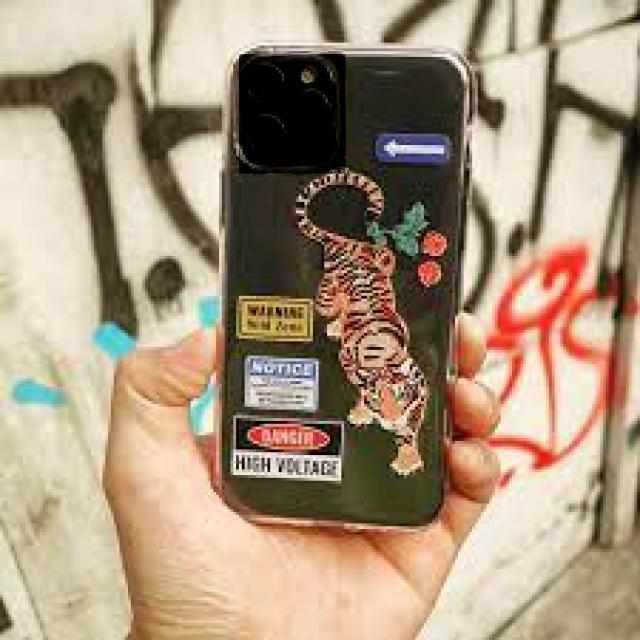phone: (217, 34, 478, 530)
